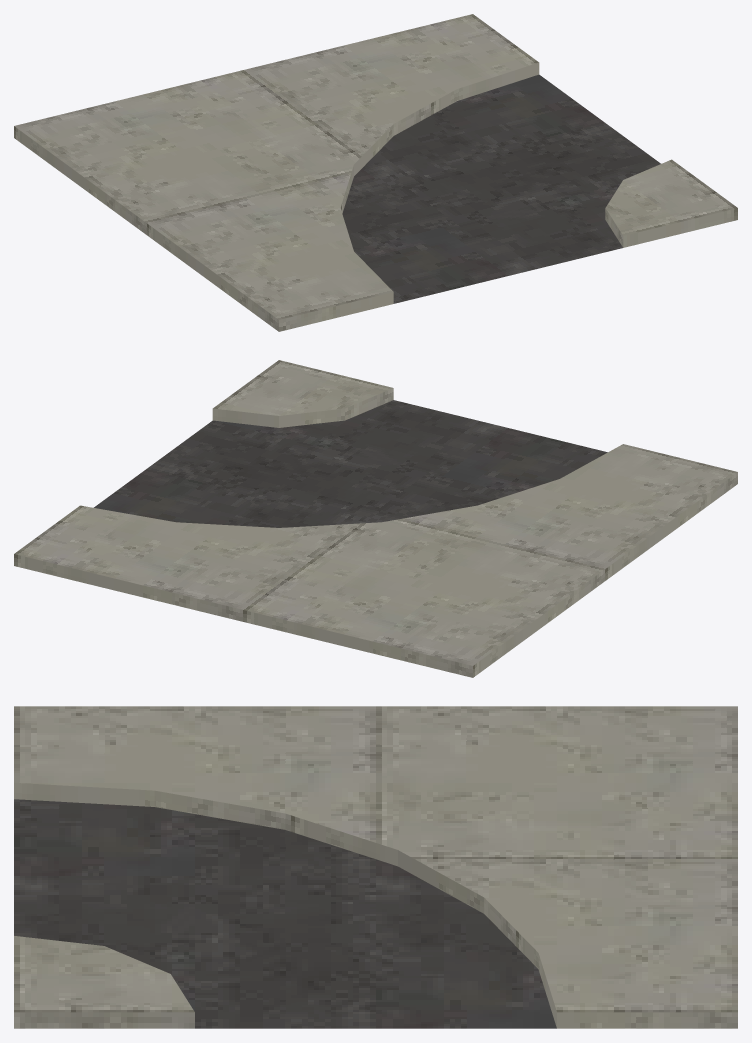
The model's file is kenney-retro-urban-road-asphalt-corner.glb.
The picture shows the model from 3 angles, top to bottom: view 1: azimuth 30°, elevation 25°; view 2: azimuth 150°, elevation 25°; view 3: azimuth 270°, elevation 25°; orthographic projection. The views are drawn at different scales.
Visible parts, largest first — view 1: road-asphalt-corner; view 2: road-asphalt-corner; view 3: road-asphalt-corner.
Boxes of the visible parts, x1=… form: road-asphalt-corner: x1=14, y1=14, x2=737, y2=331; road-asphalt-corner: x1=14, y1=360, x2=737, y2=677; road-asphalt-corner: x1=14, y1=706, x2=737, y2=1028.
Bounding box in the file's own units: 2 × 0.0501 × 2.
Materials: 2 (2 with a texture image).
